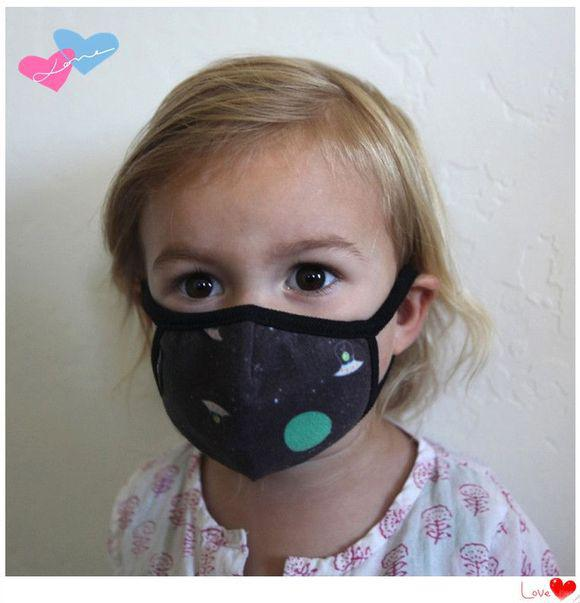OK: (155, 210, 380, 468)
